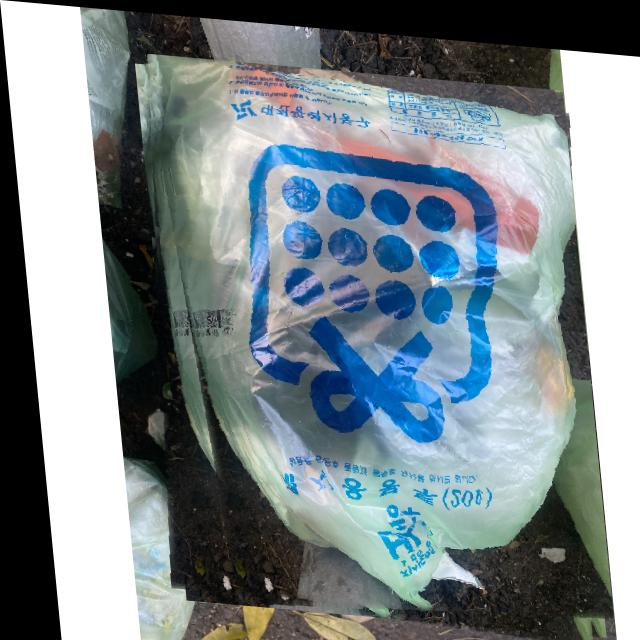general_trashbag: (156, 53, 572, 606)
